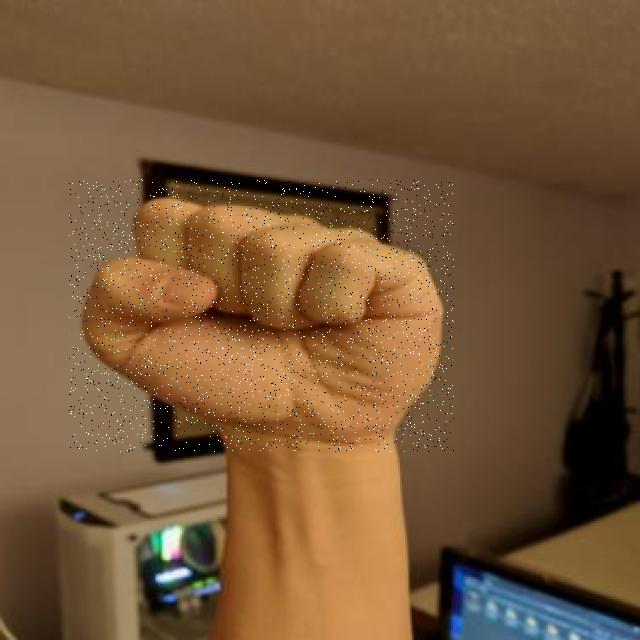S: (69, 179, 454, 452)
